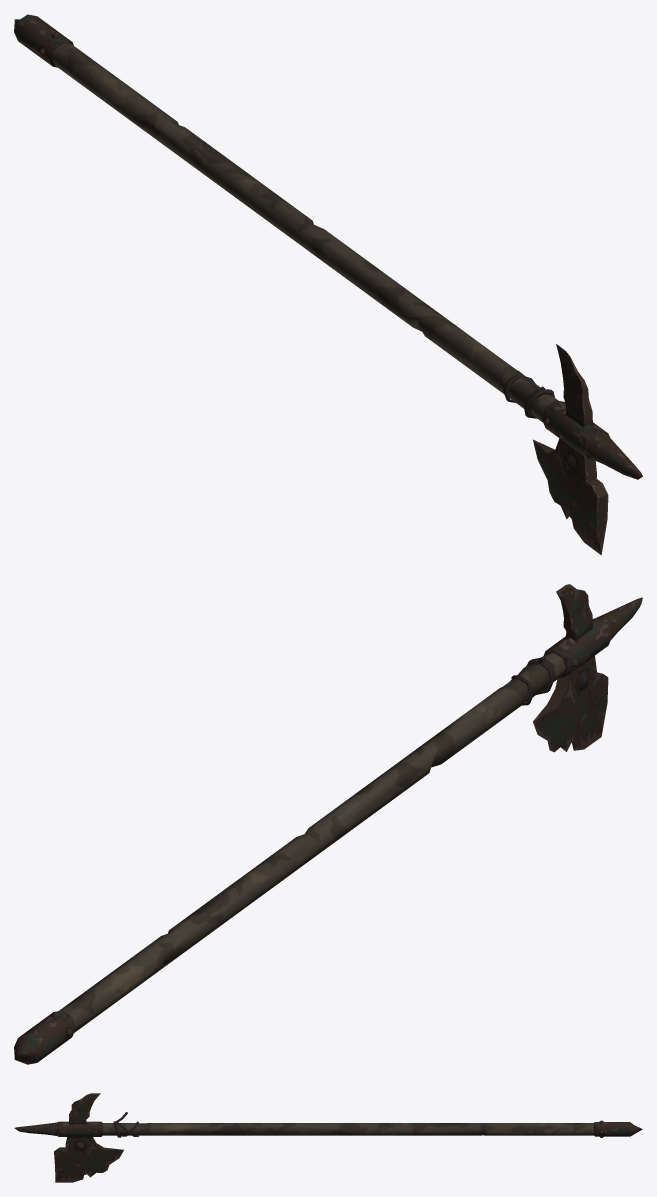
Rendered from Weapon_Spear_021.glb.
The picture shows the model from 3 angles, top to bottom: view 1: azimuth 30°, elevation 25°; view 2: azimuth 150°, elevation 25°; view 3: azimuth 270°, elevation 25°; orthographic projection. The views are drawn at different scales.
Parts seen in each view (by area): view 1: Weapon_Spear_021; view 2: Weapon_Spear_021; view 3: Weapon_Spear_021.
Part boxes in pixels (<box>): Weapon_Spear_021: <box>14,14,642,555</box>; Weapon_Spear_021: <box>14,584,642,1064</box>; Weapon_Spear_021: <box>14,1093,642,1182</box>.
Size of the model in its own units: 0.0781 by 0.4185 by 2.67.
1 material, 1 textured.
